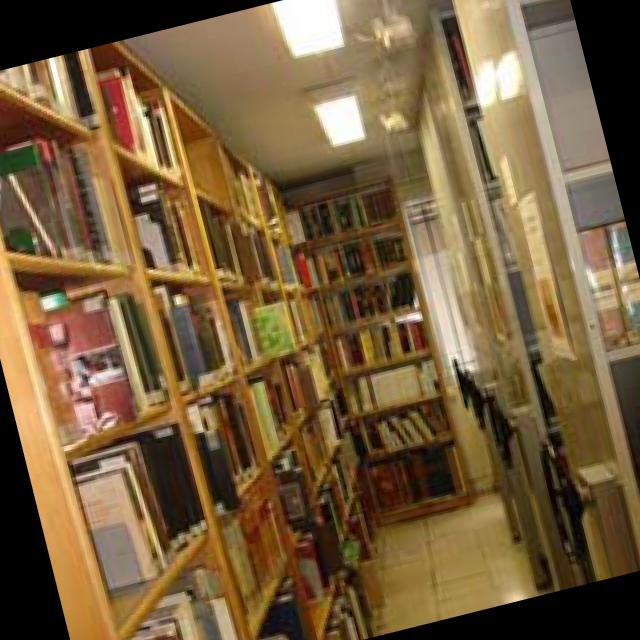2006: (417, 247, 476, 373)
books crop: (71, 418, 211, 588), (44, 286, 173, 430), (223, 477, 293, 613), (188, 388, 262, 507), (376, 435, 472, 506), (373, 406, 438, 450)
ceiling beam: (125, 0, 455, 185)
floor -X: (377, 487, 557, 630)
lamp crop: (274, 0, 346, 53), (315, 91, 369, 144)
shelves crop: (0, 38, 386, 640), (420, 0, 640, 587), (295, 170, 475, 521)
wall clock: (290, 143, 498, 492)
